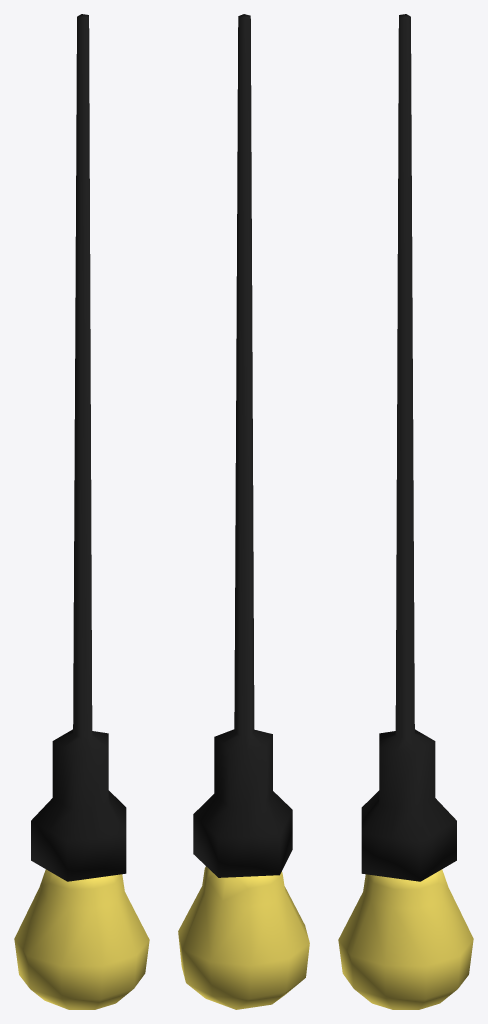
File: ceiling_light.glb
3 views of the same model, side by side, from view 1: azimuth 90°, elevation 25°; view 2: azimuth 150°, elevation 25°; view 3: azimuth 270°, elevation 25° (orthographic).
Parts seen in each view (by area): view 1: light_pole, light_bulb; view 2: light_pole, light_bulb; view 3: light_pole, light_bulb.
Part boxes in pixels (bbox=[...]): light_pole: bbox=[31, 14, 126, 881]; light_bulb: bbox=[14, 869, 149, 1009]; light_pole: bbox=[193, 14, 292, 877]; light_bulb: bbox=[178, 866, 309, 1009]; light_pole: bbox=[361, 14, 456, 881]; light_bulb: bbox=[338, 869, 473, 1009].
Bounding box in the file's own units: 0.0477 × 0.4046 × 0.0502.
2 materials, 1 textured.
